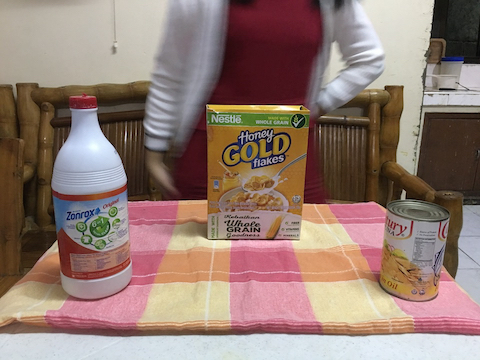bottle: (49, 86, 140, 302)
box: (195, 100, 314, 242)
can: (376, 196, 456, 307)
